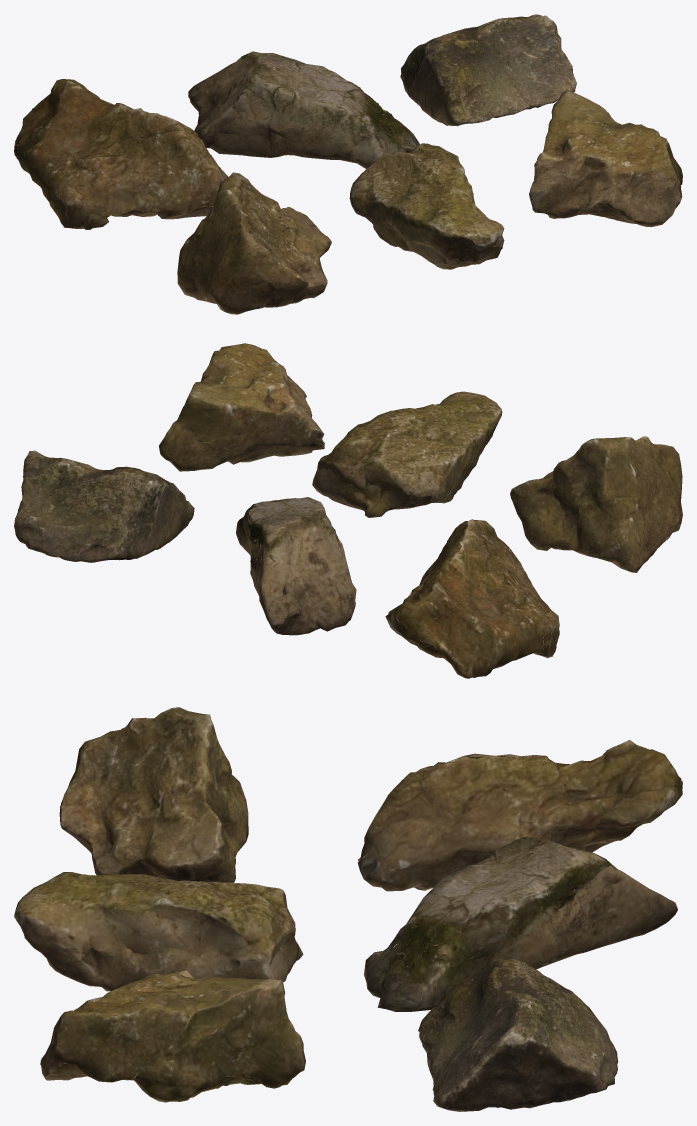
The model's file is rock_moss_set_01.glb.
3 views of the same model, one above another, from view 1: azimuth 30°, elevation 25°; view 2: azimuth 150°, elevation 25°; view 3: azimuth 270°, elevation 25° (orthographic). The views are drawn at different scales.
Parts seen in each view (by area): view 1: rock_moss_set_01_rock01, rock_moss_set_01_rock02, rock_moss_set_01_rock06, rock_moss_set_01_rock04, rock_moss_set_01_rock03, rock_moss_set_01_rock05; view 2: rock_moss_set_01_rock04, rock_moss_set_01_rock01, rock_moss_set_01_rock05, rock_moss_set_01_rock03, rock_moss_set_01_rock06, rock_moss_set_01_rock02; view 3: rock_moss_set_01_rock01, rock_moss_set_01_rock02, rock_moss_set_01_rock05, rock_moss_set_01_rock04, rock_moss_set_01_rock06, rock_moss_set_01_rock03.
Boxes of the visible parts, x1,y1,x2,y2 form: rock_moss_set_01_rock01: [14, 79, 228, 229]; rock_moss_set_01_rock02: [188, 51, 419, 168]; rock_moss_set_01_rock06: [529, 89, 682, 227]; rock_moss_set_01_rock04: [177, 172, 331, 314]; rock_moss_set_01_rock03: [400, 14, 576, 126]; rock_moss_set_01_rock05: [349, 143, 504, 269]; rock_moss_set_01_rock04: [510, 436, 682, 572]; rock_moss_set_01_rock01: [385, 519, 559, 678]; rock_moss_set_01_rock05: [312, 391, 502, 517]; rock_moss_set_01_rock03: [14, 450, 194, 562]; rock_moss_set_01_rock06: [159, 343, 324, 471]; rock_moss_set_01_rock02: [236, 497, 356, 635]; rock_moss_set_01_rock01: [357, 740, 682, 891]; rock_moss_set_01_rock02: [364, 836, 677, 1011]; rock_moss_set_01_rock05: [14, 872, 303, 991]; rock_moss_set_01_rock04: [59, 707, 248, 882]; rock_moss_set_01_rock06: [40, 970, 305, 1102]; rock_moss_set_01_rock03: [418, 956, 618, 1111].
Size of the model in its own units: 8 by 1.77 by 6.95.
1 material, 1 textured.
